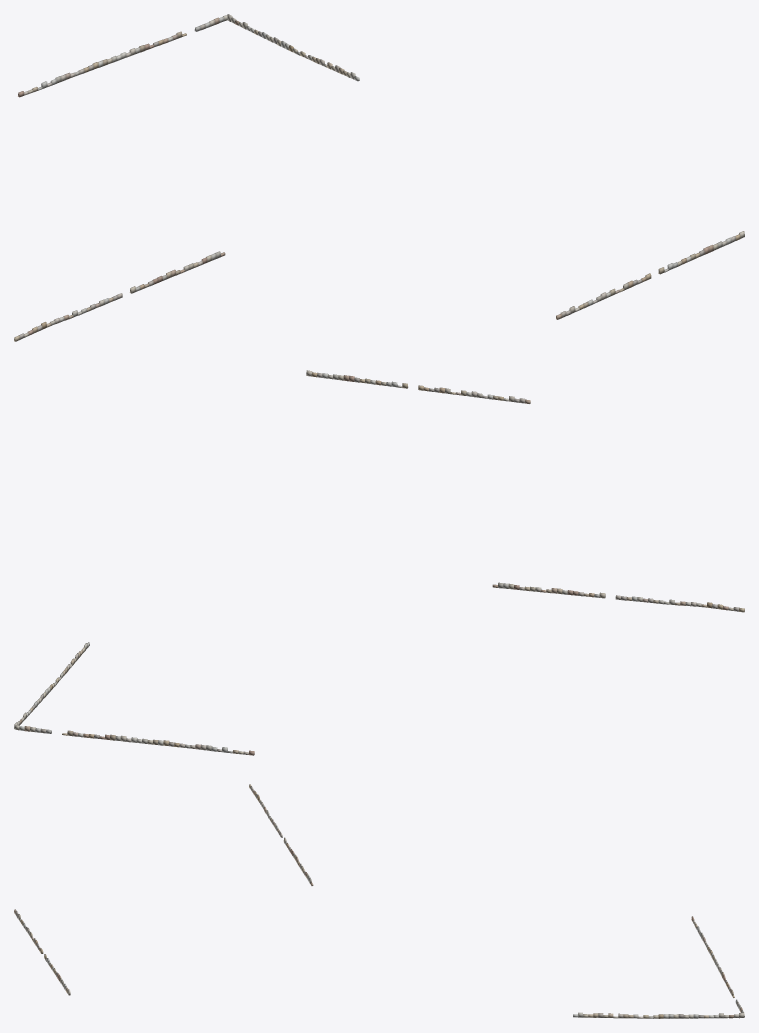
Rendered from farm_10_-2_far.glb.
3 renders of one model, top to bottom at view 1: azimuth 30°, elevation 25°; view 2: azimuth 150°, elevation 25°; view 3: azimuth 270°, elevation 25°, orthographic. The views are drawn at different scales.
Parts seen in each view (by area): view 1: geometry_0; view 2: geometry_0; view 3: geometry_0.
Part boxes in pixels (x1,y1,x2,y2): geometry_0: (14,14,744,341); geometry_0: (14,370,744,755); geometry_0: (14,784,744,1018).
Bounding box in the file's own units: 177 × 21.36 × 230.
